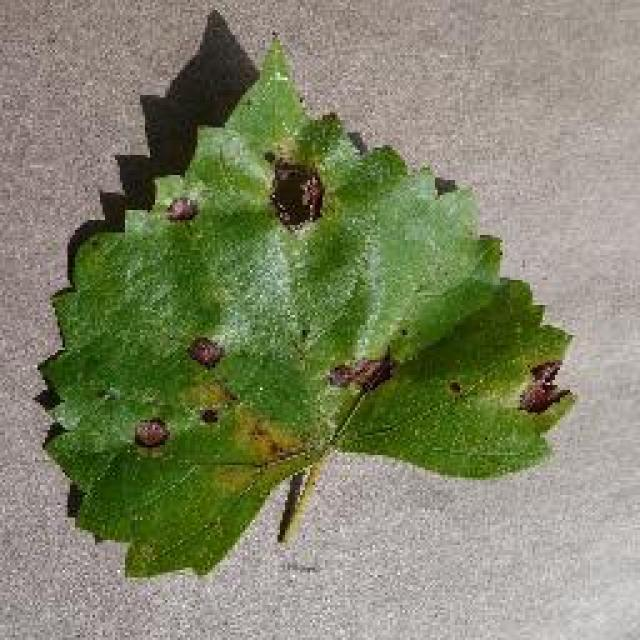Grape___Black_rot: (28, 26, 583, 585)
